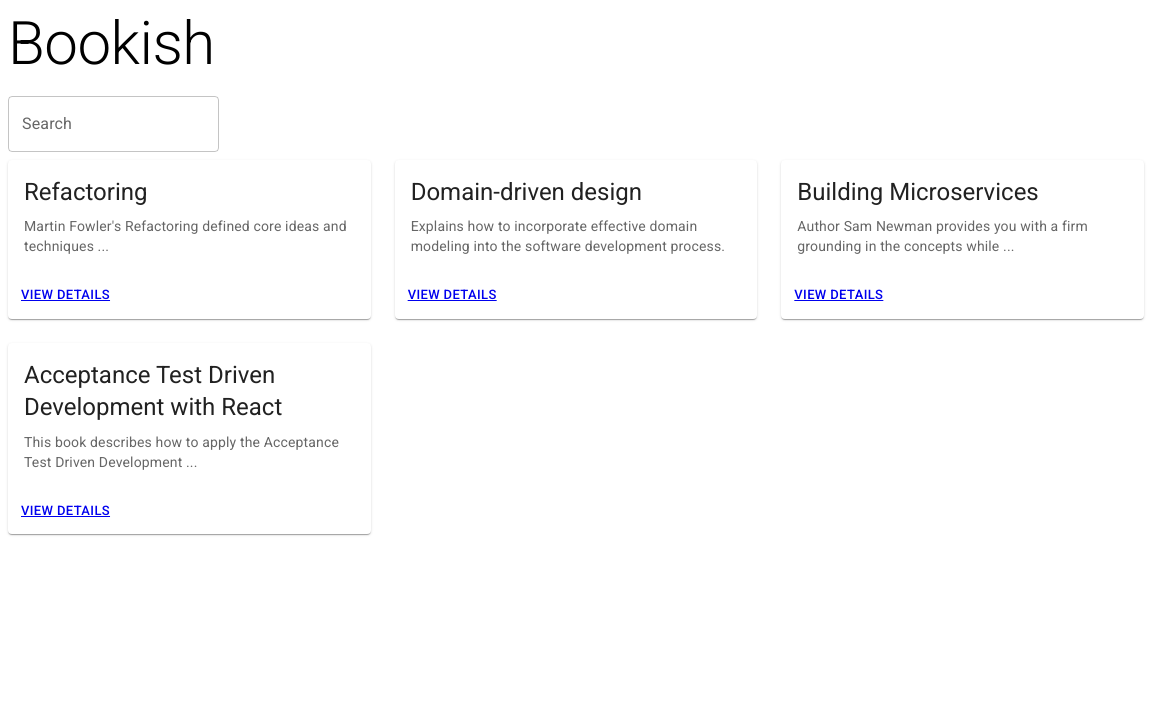
it: Bookish application › Searches for a title
This screenshot has width=1152, height=720.
Check: the element with test id "book-list" is shown, box [8,136,1144,534]
In the field labelled "Search": (114, 124) [8,96,219,152], type "Refactoring"
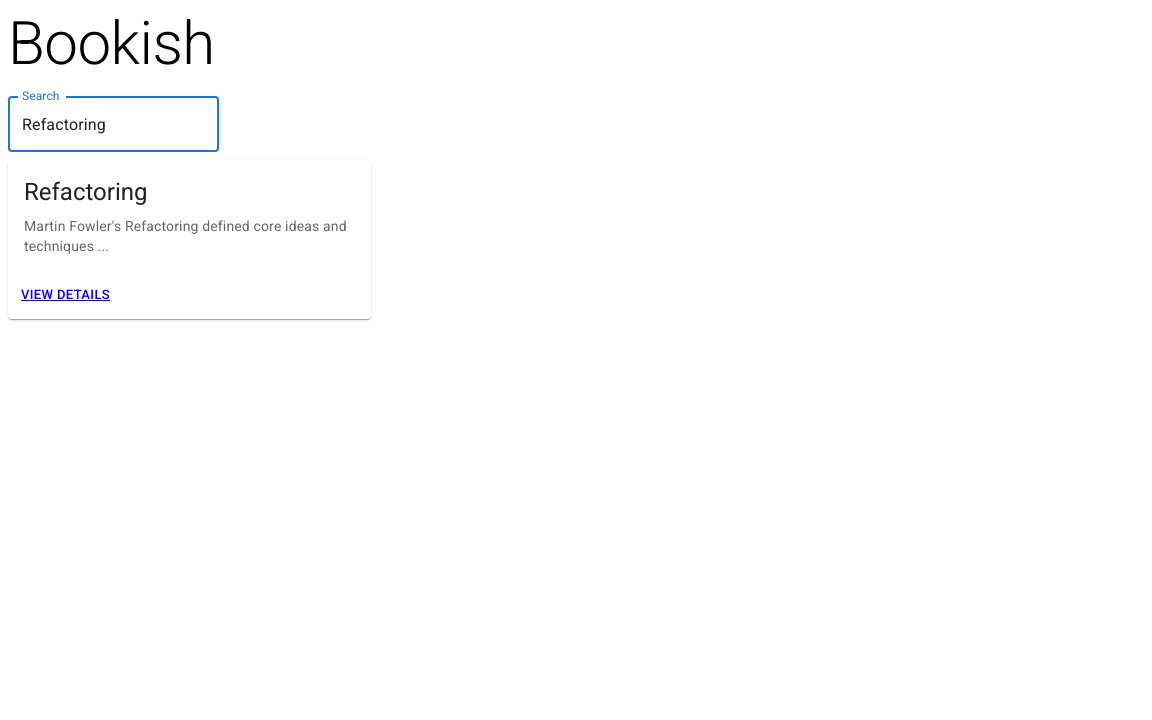
Check: the element with test id "book-list" is shown, box [8,160,371,319]
Check: the number of elements with class "book-item" is 1, box [0,136,371,319]
